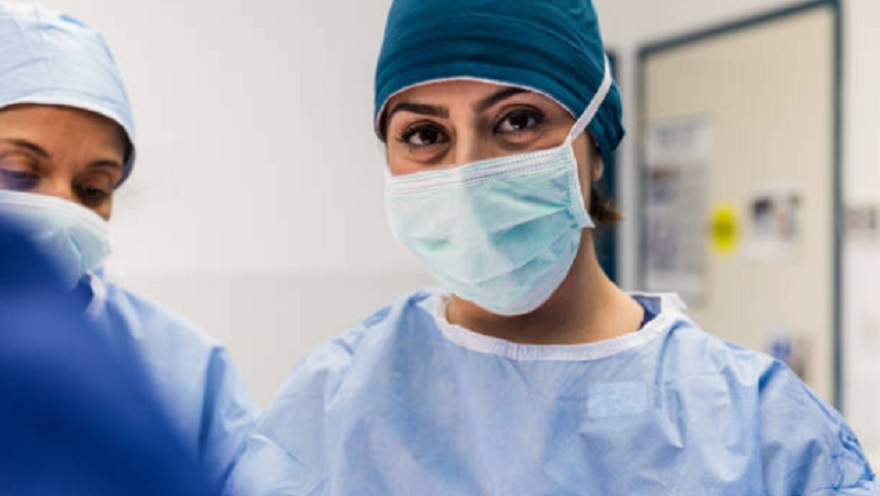barbijo: (376, 147, 607, 323)
